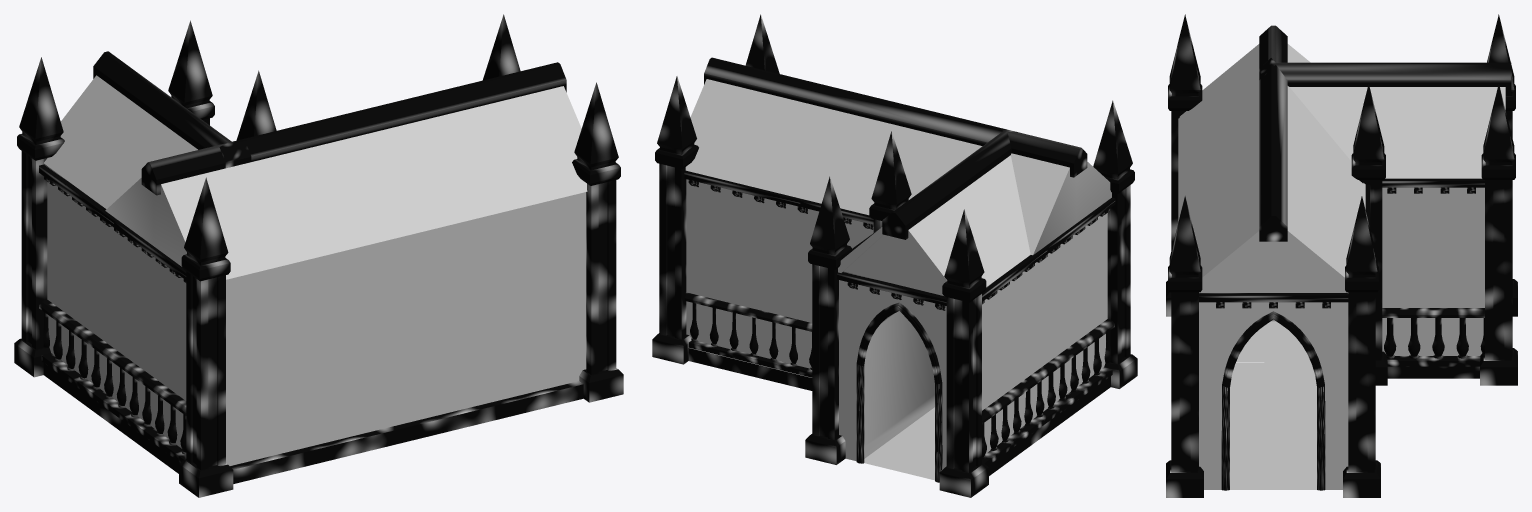
File: Shed.fbx
3 renders of one model, left to right at view 1: azimuth 30°, elevation 25°; view 2: azimuth 150°, elevation 25°; view 3: azimuth 270°, elevation 25°, orthographic. The views are drawn at different scales.
Visible parts, largest first — view 1: GravekeeperShed; view 2: GravekeeperShed; view 3: GravekeeperShed.
Boxes of the visible parts, left/top/right/bottom form: GravekeeperShed: left=14, top=14, right=623, bottom=497; GravekeeperShed: left=652, top=14, right=1137, bottom=497; GravekeeperShed: left=1166, top=14, right=1517, bottom=497.
Size of the model in its own units: 9.11 by 6.33 by 6.85.
